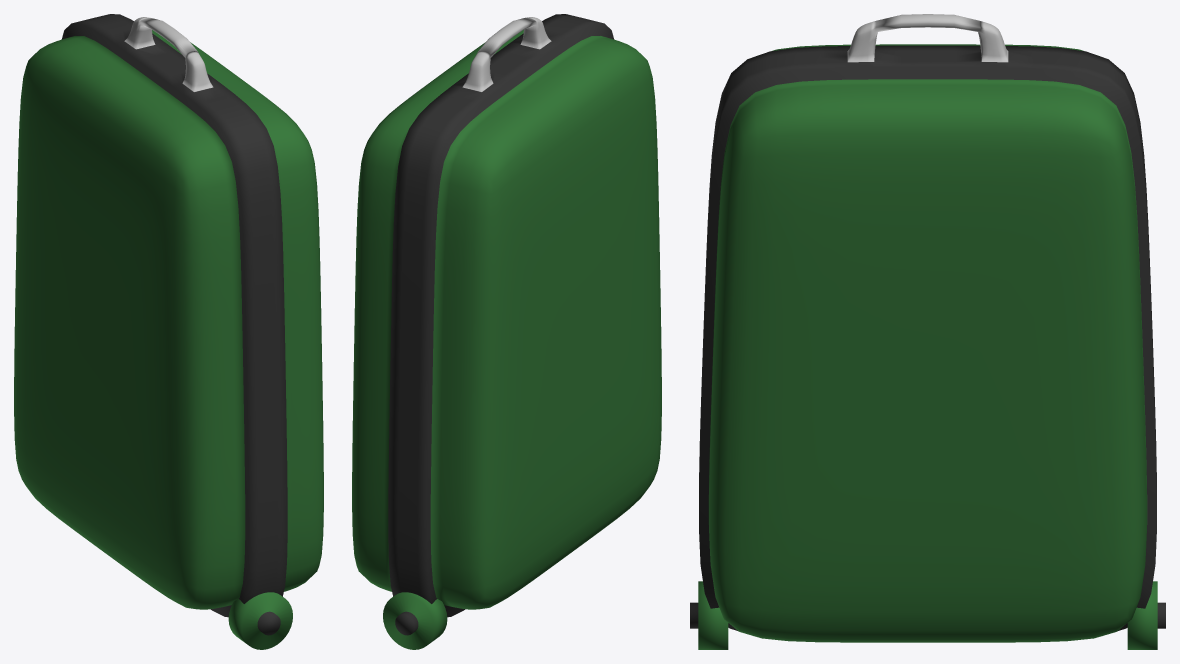
The model's file is SuitCaseSmallGreen.fbx.
3 renders of one model, left to right at view 1: azimuth 30°, elevation 25°; view 2: azimuth 150°, elevation 25°; view 3: azimuth 270°, elevation 25°, orthographic. The views are drawn at different scales.
Parts seen in each view (by area): view 1: Cylinder.007; view 2: Cylinder.007; view 3: Cylinder.007.
Boxes of the visible parts, bbox=[...] form: Cylinder.007: bbox=[14, 14, 323, 649]; Cylinder.007: bbox=[352, 14, 661, 649]; Cylinder.007: bbox=[690, 14, 1165, 649].
Size of the model in its own units: 30.46 by 107 by 72.71.
